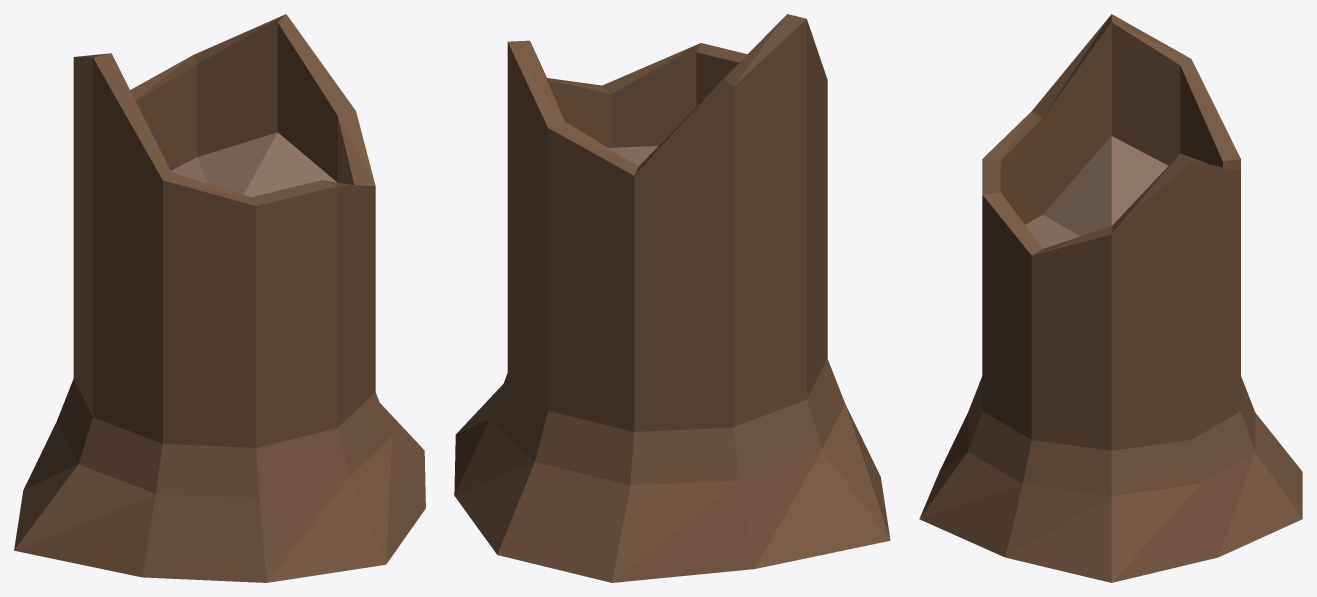
File: Tree-trunk-1.fbx
3 views of the same model, side by side, from view 1: azimuth 30°, elevation 25°; view 2: azimuth 150°, elevation 25°; view 3: azimuth 270°, elevation 25° (orthographic). The views are drawn at different scales.
Parts seen in each view (by area): view 1: Tree_trunk_1; view 2: Tree_trunk_1; view 3: Tree_trunk_1.
Boxes of the visible parts, x1,y1,x2,y2 form: Tree_trunk_1: (14, 14, 425, 582); Tree_trunk_1: (454, 14, 890, 582); Tree_trunk_1: (919, 14, 1302, 582).
Bounding box in the file's own units: 202 × 223 × 183.
Materials: 1 (1 with a texture image).
